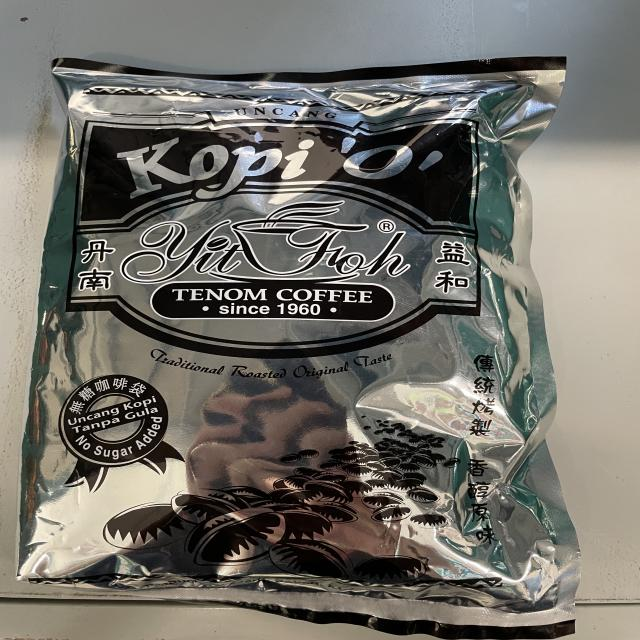object_name: (52, 66, 553, 627)
